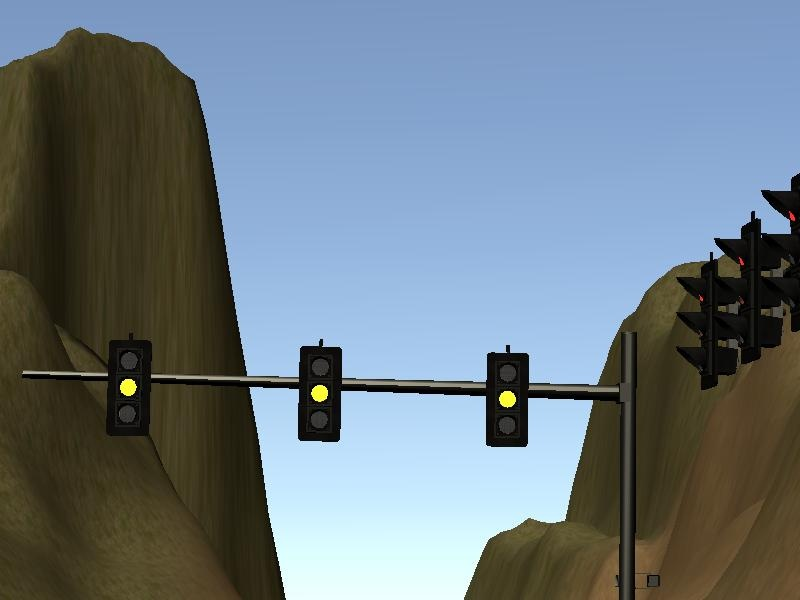YELLOW: (484, 350, 530, 447), (296, 345, 342, 442), (105, 338, 151, 435)
